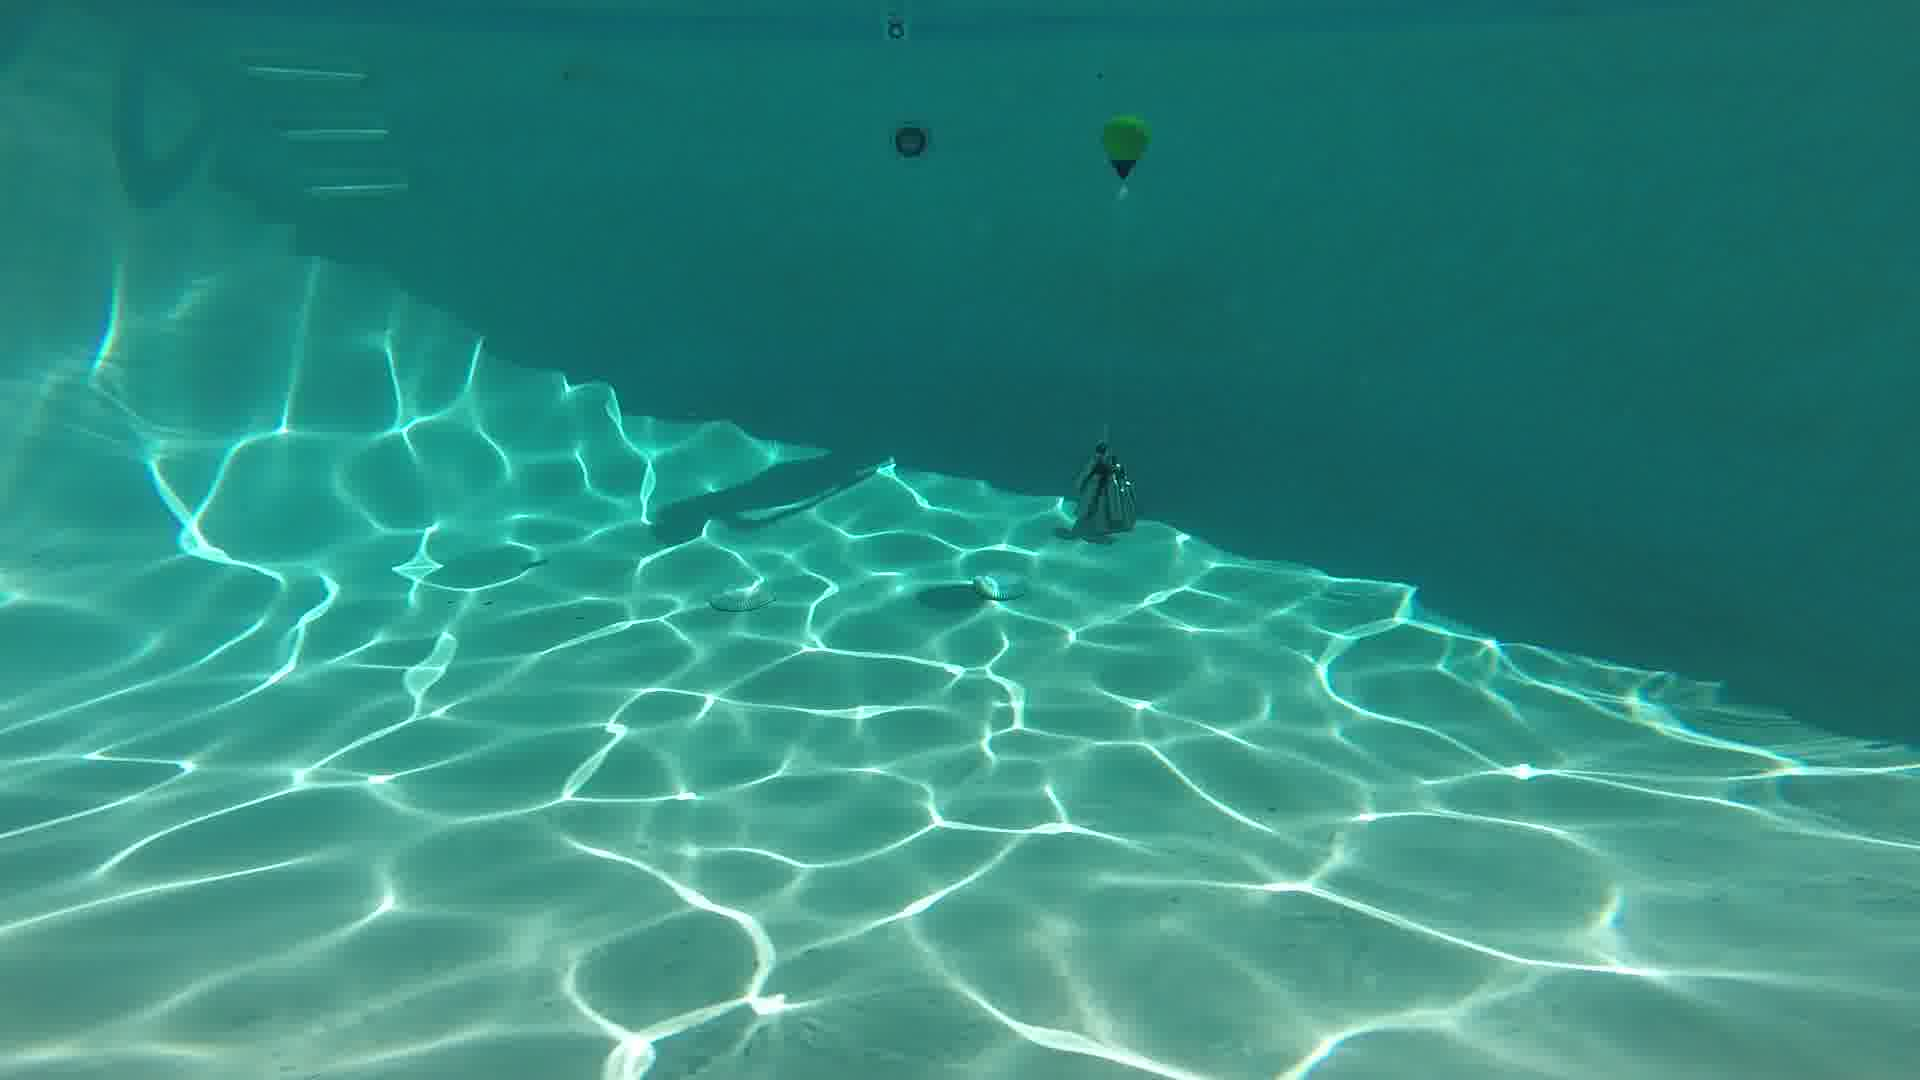yellow_buoy: (1101, 115, 1149, 185)
